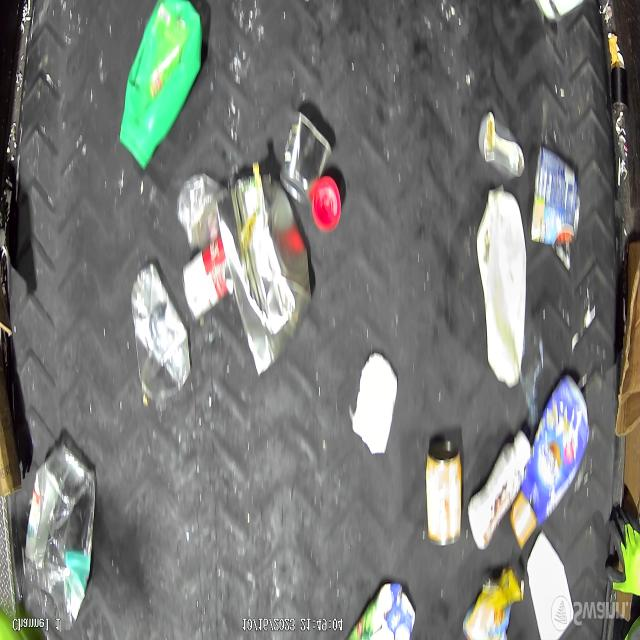can: (216, 170, 313, 378), (530, 146, 581, 270), (279, 110, 333, 204), (181, 235, 234, 322), (425, 440, 463, 548), (478, 111, 526, 182)
milk_jug: (475, 188, 528, 386)
non_white_jug: (119, 0, 203, 173), (509, 375, 589, 544)
plastic_bottle: (22, 441, 97, 632)
